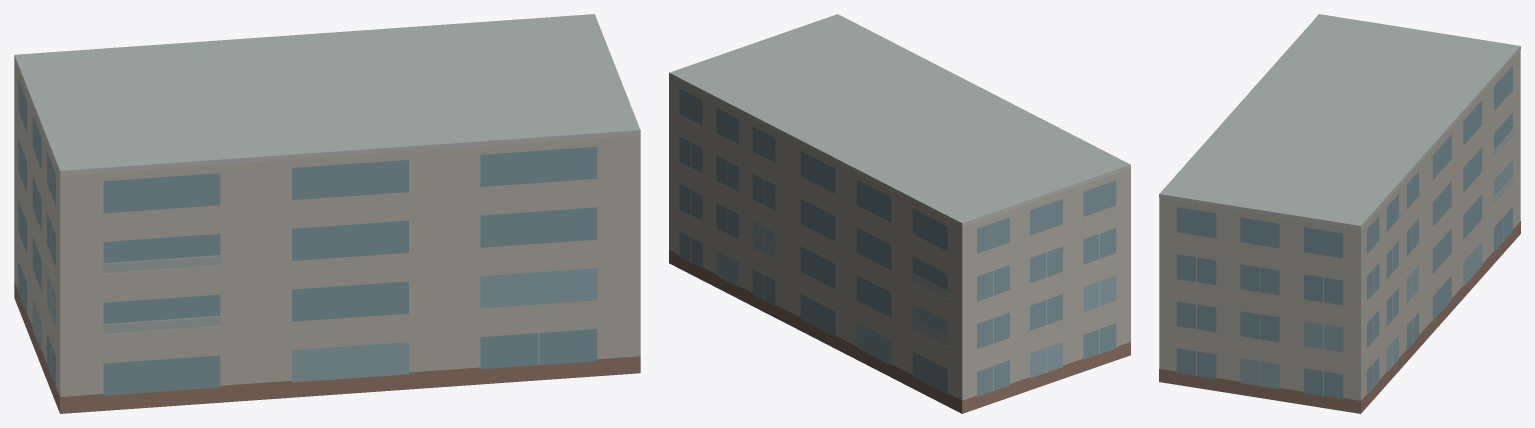
Rendered from residential-079ff7d5-3809-4c97-afb7-cd41c0e595c5.glb.
3 renders of one model, left to right at view 1: azimuth 30°, elevation 25°; view 2: azimuth 150°, elevation 25°; view 3: azimuth 270°, elevation 25°, orthographic. The views are drawn at different scales.
Visible parts, largest first — view 1: residential-079ff7d5-3809-4c97-afb7-cd41c0e595c5.tmp; view 2: residential-079ff7d5-3809-4c97-afb7-cd41c0e595c5.tmp; view 3: residential-079ff7d5-3809-4c97-afb7-cd41c0e595c5.tmp.
Boxes of the visible parts, x1=… form: residential-079ff7d5-3809-4c97-afb7-cd41c0e595c5.tmp: x1=14, y1=14, x2=640, y2=413; residential-079ff7d5-3809-4c97-afb7-cd41c0e595c5.tmp: x1=669, y1=14, x2=1130, y2=413; residential-079ff7d5-3809-4c97-afb7-cd41c0e595c5.tmp: x1=1159, y1=14, x2=1520, y2=413.
Size of the model in its own units: 29.52 by 12.2 by 21.28.
